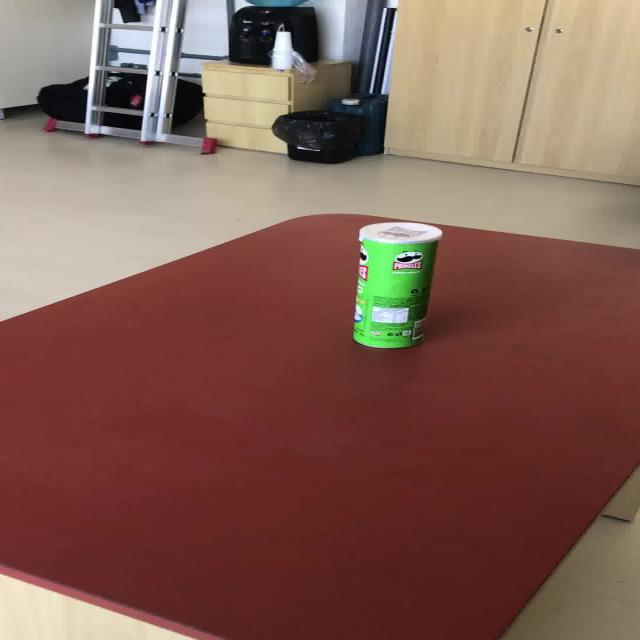pringles: (350, 220, 442, 348)
